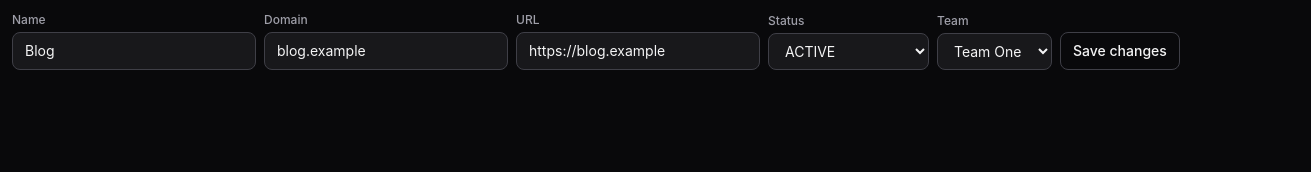
Test: EditWebsiteForm › falls back to request_failed_<status> when the error body is empty
What coordinates should you click on to do the following:
click the button "Save changes"
I would click on:
 (1120, 51)
Its box is top-left (1060, 32), bottom-right (1180, 70).
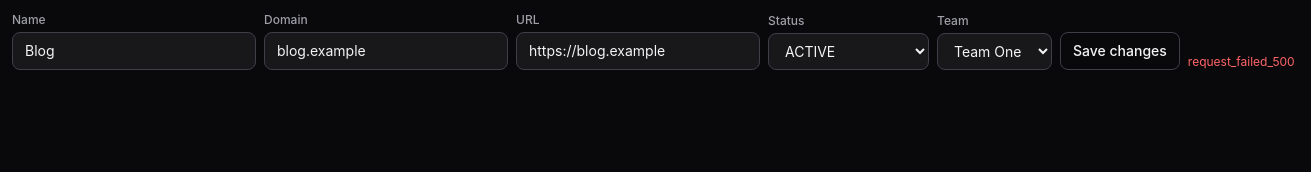
Expected: the message reads "request_failed_500", top-left (1188, 54), bottom-right (1295, 69)
